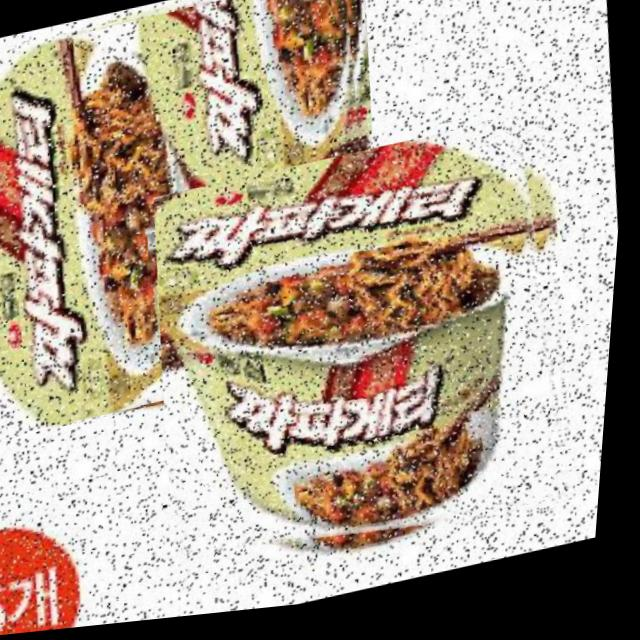Miscellaneous: (132, 116, 602, 604), (0, 0, 406, 444)
